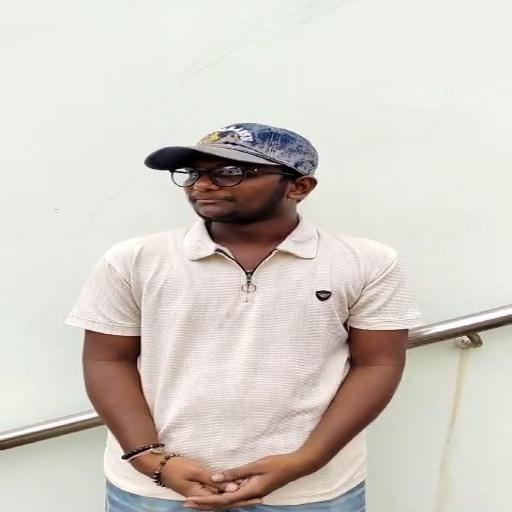employee-detectio-system: (68, 111, 414, 426)
